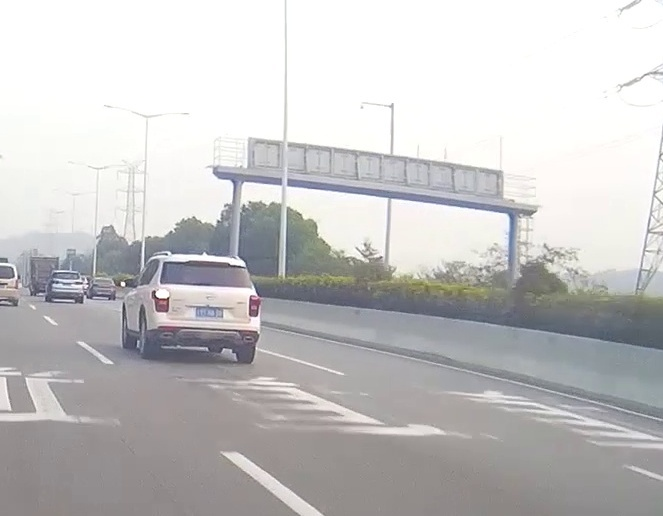L_light: (152, 290, 169, 312), (52, 281, 59, 284)
R_light: (249, 295, 259, 317), (75, 282, 82, 284)
T_light: (200, 263, 212, 265), (64, 273, 70, 274)
day-left: (150, 257, 260, 364)
day-no: (50, 271, 84, 303)
